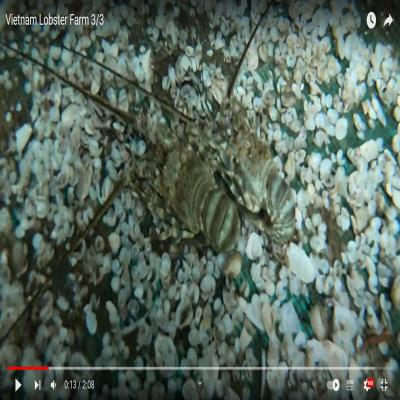lobster: (217, 101, 295, 243), (140, 150, 236, 256)
